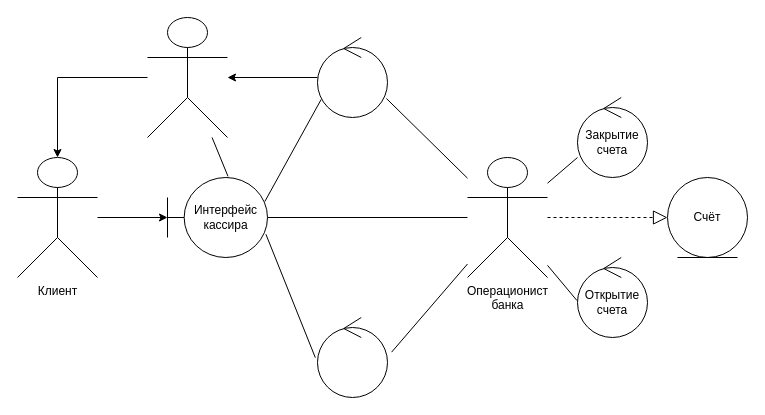
The diagram is 765 pixels wide and 415 high, and some of its shapes have lost their labels. Each missing label, with the centre of its shape:
Кассир: the point at 187,77
Пополнение счёта: the point at 352,357
Снятие денег со счета: the point at 352,77
